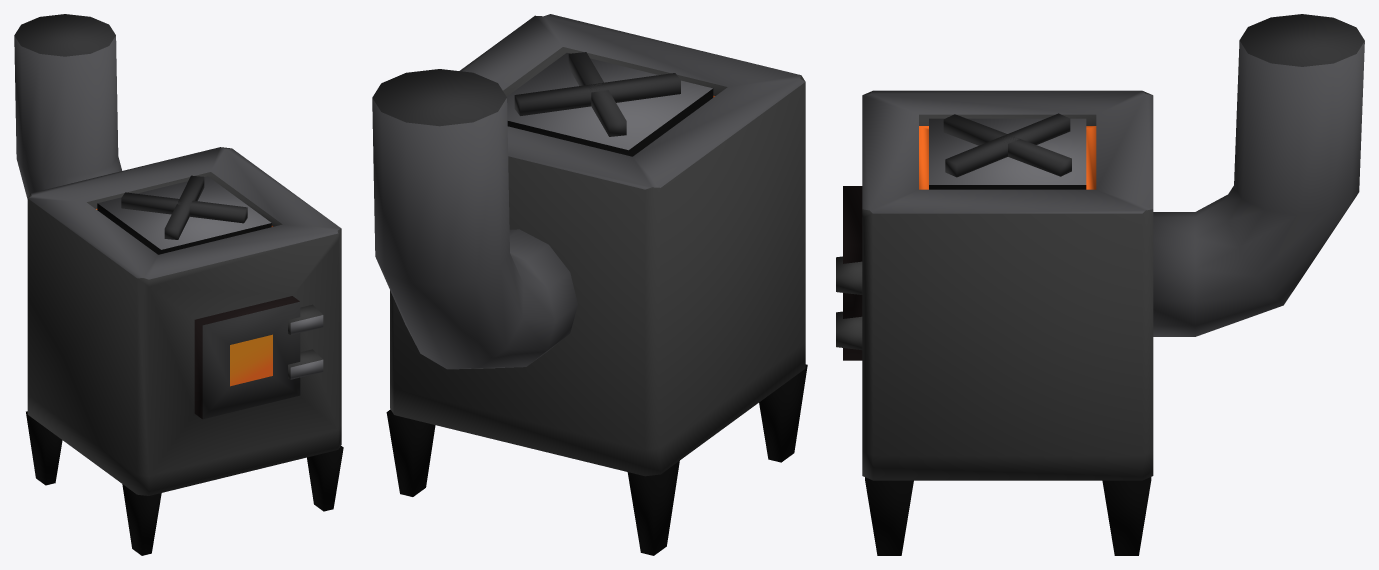
The model's file is Furnace 2.glb.
3 renders of one model, left to right at view 1: azimuth 30°, elevation 25°; view 2: azimuth 150°, elevation 25°; view 3: azimuth 270°, elevation 25°, orthographic. The views are drawn at different scales.
Parts seen in each view (by area): view 1: Furnace 2; view 2: Furnace 2; view 3: Furnace 2.
Part boxes in pixels (x1=…): Furnace 2: x1=14, y1=14, x2=343, y2=555; Furnace 2: x1=372, y1=14, x2=807, y2=555; Furnace 2: x1=836, y1=14, x2=1364, y2=555.
Size of what is drawn, in the model's own units: 0.9451 by 1.64 by 1.72.
Materials: 1 (1 with a texture image).
